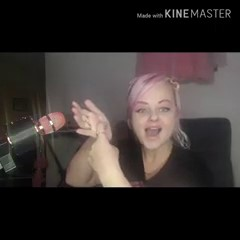R: (68, 96, 121, 169)
